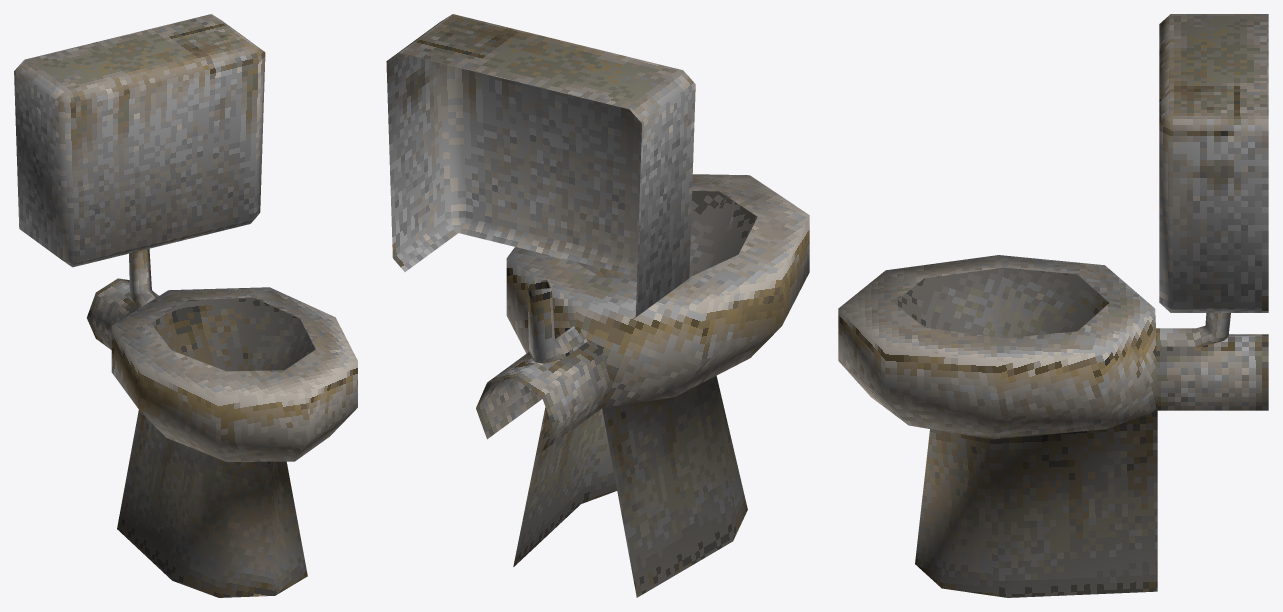
The model's file is toilet.glb.
3 views of the same model, side by side, from view 1: azimuth 30°, elevation 25°; view 2: azimuth 150°, elevation 25°; view 3: azimuth 270°, elevation 25° (orthographic). The views are drawn at different scales.
Parts seen in each view (by area): view 1: Toilet; view 2: Toilet; view 3: Toilet.
Part boxes in pixels (x1,y1,x2,y2): Toilet: (14,14,357,597); Toilet: (386,14,809,597); Toilet: (838,14,1268,597).
Bounding box in the file's own units: 0.4971 × 1.01 × 0.7929.
Materials: 1 (1 with a texture image).
